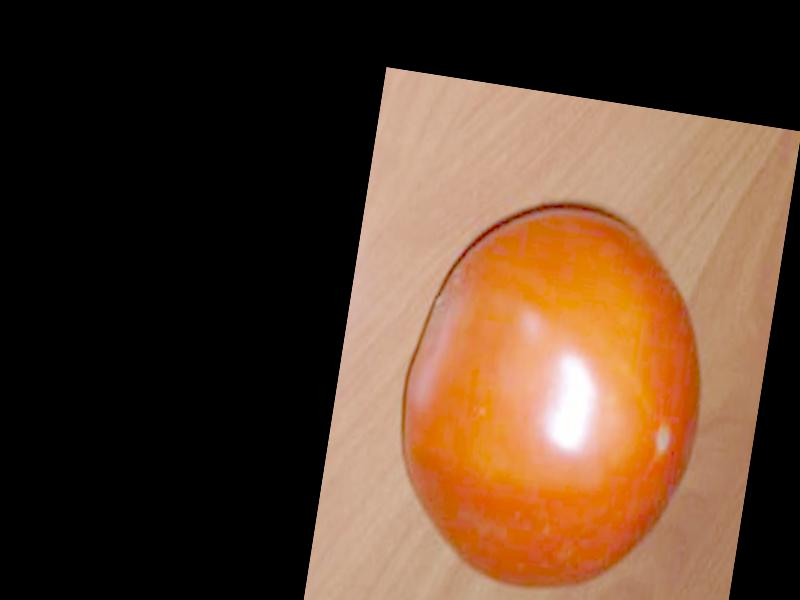Tomato: (379, 181, 729, 600)
